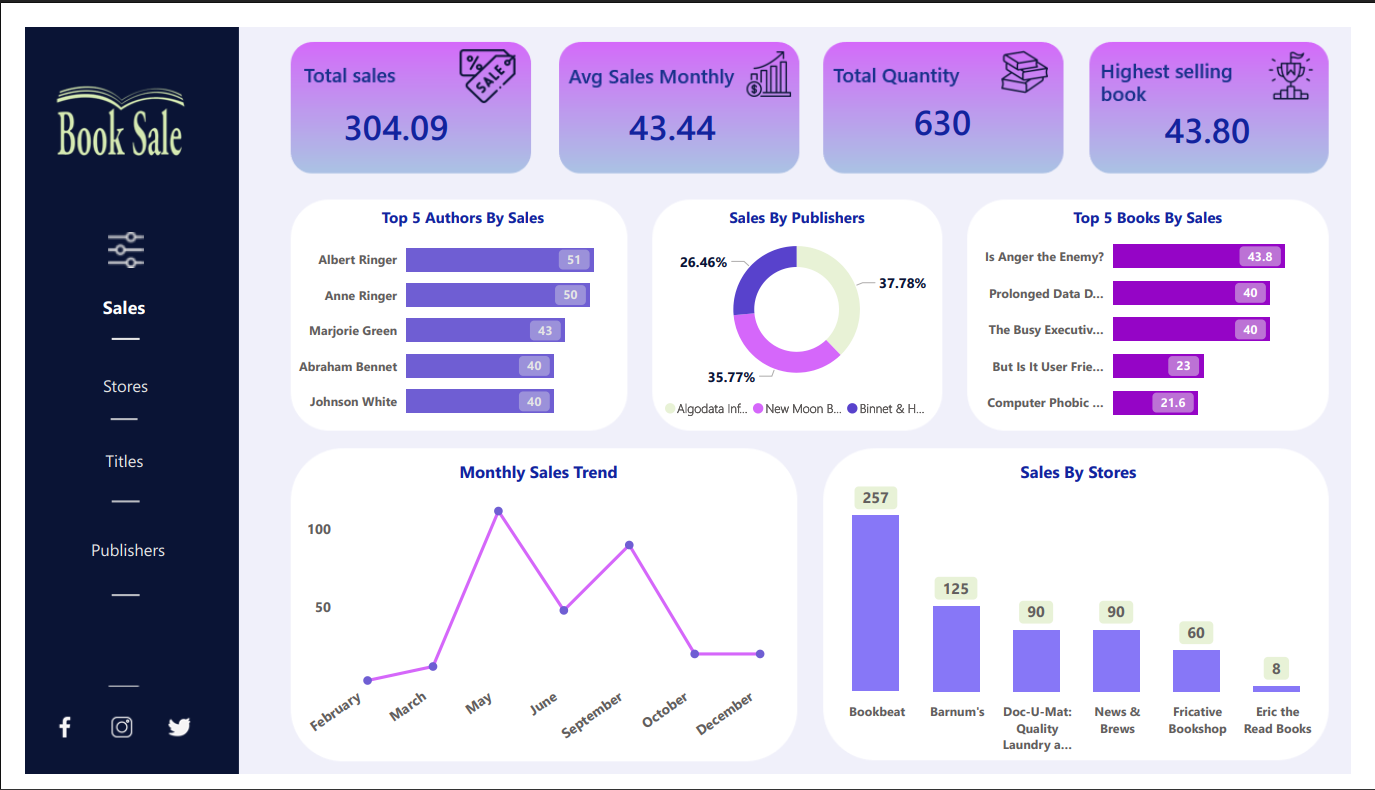

What the dashboard file says about the page in this screenshot:
{"tool":"powerbi","page":{"name":"Sales","canvas":[1280,720],"ordinal":0},"visuals":[{"type":"donutChart","fields":{"Category":["Dim_Publishers.Publisherskey"],"Y":["Fact Sales.Price"]},"box":[604.8,185.7,279.8,200],"z":0},{"type":"shape","box":[83.3,288.8,26.4,23],"z":0,"group":"g1"},{"type":"actionButton","title":"FilterButton","box":[63.1,194,66.7,41.7],"z":1000},{"type":"shape","box":[82.2,365.7,26,23.8],"z":1000,"group":"g1"},{"type":"barChart","fields":{"Y":["Sales Byauthors.Author Sale Price"],"Category":["Dim_Authors.Authors Key"]},"box":[258.3,185.7,327.4,206],"z":2000},{"type":"shape","box":[83.4,445.4,26.2,23.8],"z":2000,"group":"g1"},{"type":"clusteredBarChart","fields":{"Category":["Dim _Title.Titlekey"],"Y":["Fact Sales.Price"]},"box":[910.7,182.1,347.6,211.9],"z":3000},{"type":"shape","box":[83.4,535.9,26.2,23.8],"z":3000,"group":"g1"},{"type":"actionButton","title":"SalesBtn","box":[53.6,247.8,82.1,40.5],"z":4000,"group":"g1"},{"type":"lineChart","fields":{"Category":["Dim_Date.Month Name"],"Y":["Fact Sales.Price"]},"box":[256,440.5,484.5,267.9],"z":4000},{"type":"actionButton","title":"SalesBtn","box":[44.1,325.2,104.8,40.5],"z":5000,"group":"g1"},{"type":"columnChart","fields":{"Y":["Fact Sales.Qty"],"Category":["Dim_Stores.Stores Key"]},"box":[745.2,428.6,525,279.8],"z":5000},{"type":"card","fields":{"Values":["Fact Sales.Qty"]},"box":[800,63.2,171.5,56.3],"z":6000},{"type":"actionButton","title":"SalesBtn","box":[42.9,396.6,104.8,40.5],"z":6000,"group":"g1"},{"type":"card","fields":{"Values":["Fact Sales.Avg_Sales_Monthly"]},"box":[539.3,68.7,171.5,53.5],"z":7000},{"type":"actionButton","title":"SalesBtn","box":[46.5,482.3,104.8,40.5],"z":7000,"group":"g1"},{"type":"card","fields":{"Values":["Fact Sales.Price"]},"box":[273.1,63.2,170.2,65.9],"z":8000},{"type":"card","fields":{"Values":["Fact Sales.HighestSellingBook"]},"box":[1060.7,72.8,161.9,50.8],"z":9000},{"type":"textbox","box":[320.2,167.9,204.8,35.7],"z":10000},{"type":"textbox","box":[982.1,167.9,204.8,35.7],"z":11000},{"type":"textbox","box":[414.3,413.1,181,35.7],"z":12000},{"type":"textbox","box":[642.9,167.9,204.8,35.7],"z":13000},{"type":"textbox","box":[933.3,413.1,169,35.7],"z":14000},{"type":"group","id":"g1","title":"Menu","box":[42.9,247.8,108.1,311],"z":15000}]}

Visuals, with their boxes in screenshot pixels (x1, y1, x2, y2), scaled from the page's 1280x720 canvas onto the 1375x790 screenshot:
donutChart - Dim_Publishers.Publisherskey x Fact Sales.Price: bbox=(650, 204, 950, 423)
shape: bbox=(89, 317, 118, 342)
"FilterButton" actionButton: bbox=(68, 213, 139, 259)
shape: bbox=(88, 401, 116, 427)
barChart - Sales Byauthors.Author Sale Price x Dim_Authors.Authors Key: bbox=(277, 204, 629, 430)
shape: bbox=(90, 489, 118, 515)
clusteredBarChart - Dim _Title.Titlekey x Fact Sales.Price: bbox=(978, 200, 1352, 432)
shape: bbox=(90, 588, 118, 614)
"SalesBtn" actionButton: bbox=(58, 272, 146, 316)
lineChart - Dim_Date.Month Name x Fact Sales.Price: bbox=(275, 483, 795, 777)
"SalesBtn" actionButton: bbox=(47, 357, 160, 401)
columnChart - Fact Sales.Qty x Dim_Stores.Stores Key: bbox=(801, 470, 1364, 777)
card - Fact Sales.Qty: bbox=(859, 69, 1044, 131)
"SalesBtn" actionButton: bbox=(46, 435, 159, 480)
card - Fact Sales.Avg_Sales_Monthly: bbox=(579, 75, 764, 134)
"SalesBtn" actionButton: bbox=(50, 529, 163, 574)
card - Fact Sales.Price: bbox=(293, 69, 476, 142)
card - Fact Sales.HighestSellingBook: bbox=(1139, 80, 1313, 136)
textbox: bbox=(344, 184, 564, 223)
textbox: bbox=(1055, 184, 1275, 223)
textbox: bbox=(445, 453, 639, 492)
textbox: bbox=(691, 184, 911, 223)
textbox: bbox=(1003, 453, 1184, 492)
"Menu" group: bbox=(46, 272, 162, 613)
